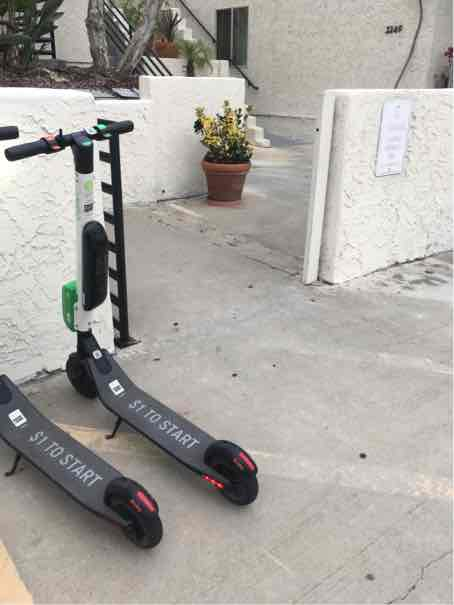scooter: (0, 121, 272, 513)
